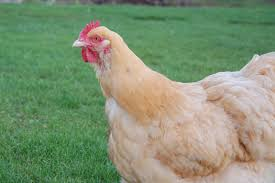buff: (70, 15, 200, 166)
